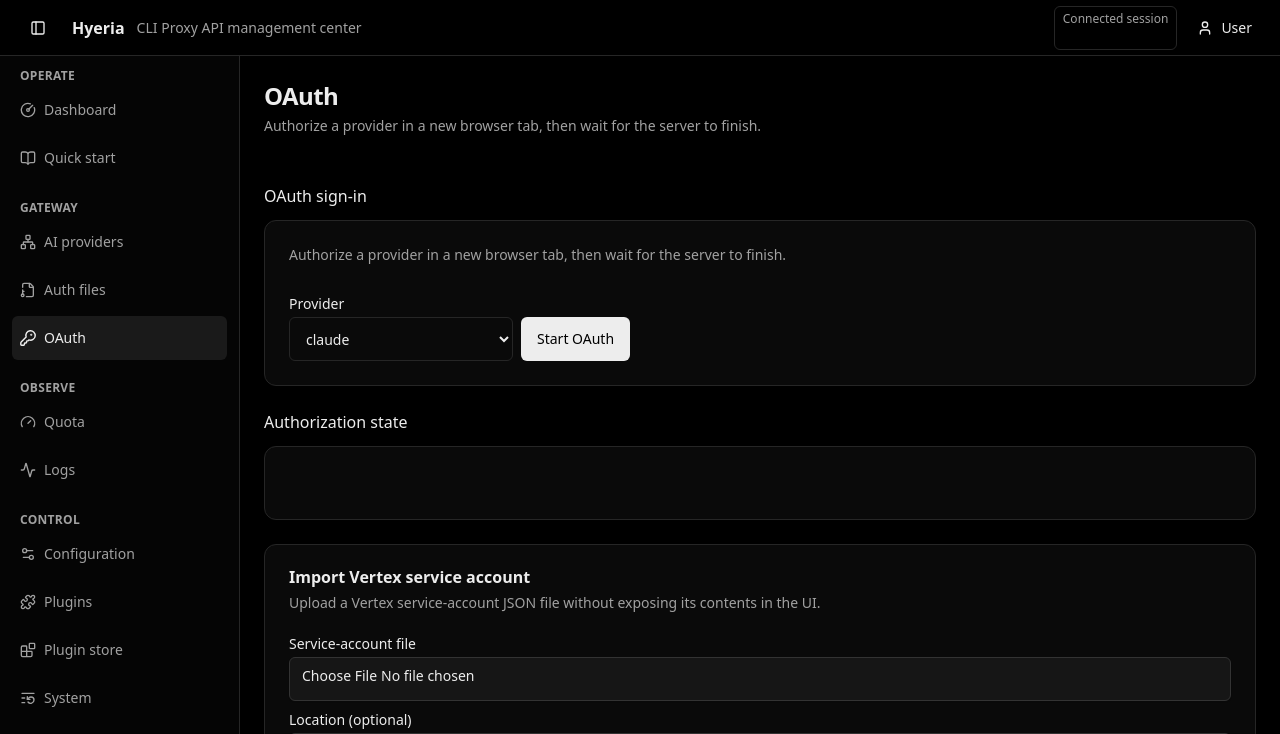
Test case: OAuth page › is reachable at /oauth and completes a browser flow
expect the heading "OAuth" is shown: met, box [264,79,338,112]
expect the element that starts with "OAuth sign-in" is shown: met, box [264,184,1256,386]
Click the button "Start OAuth" at [576, 339], box [521,317,630,361]
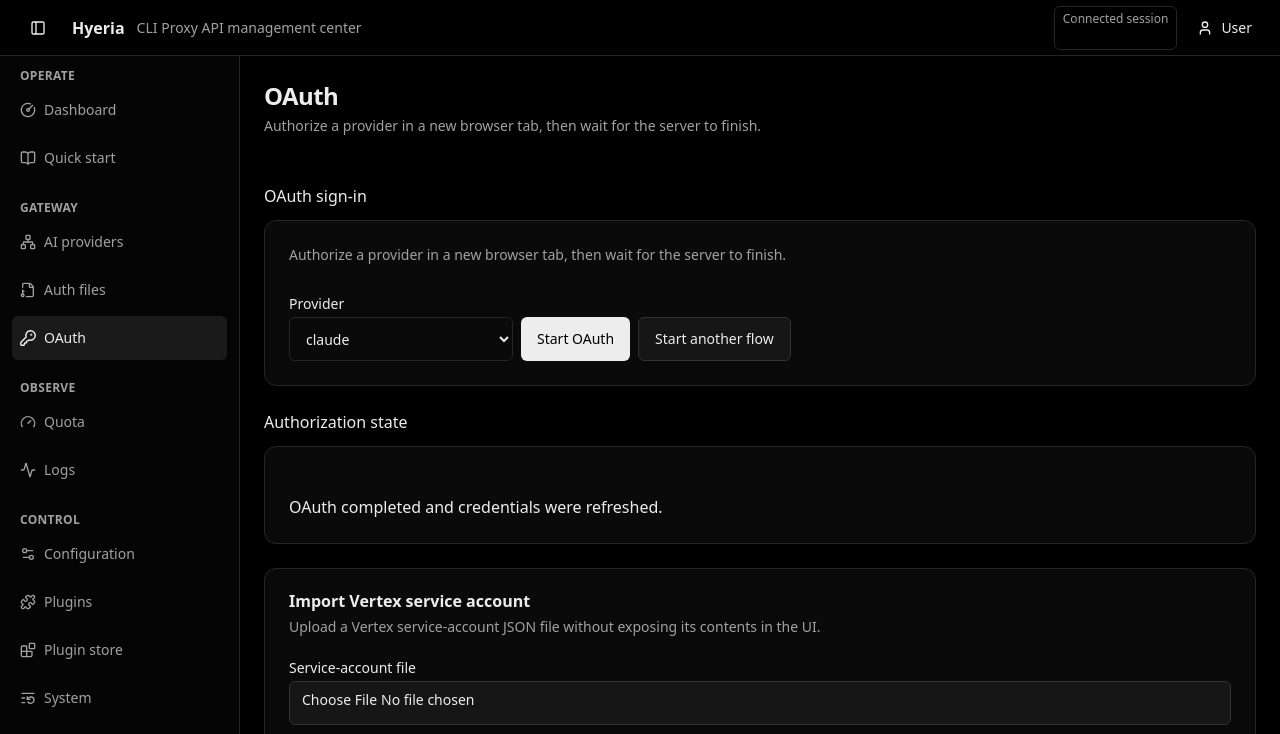
expect the heading "OAuth sign-in" is shown: met, box [264,185,367,207]
expect the text "OAuth completed" is shown: met, box [289,496,663,518]
